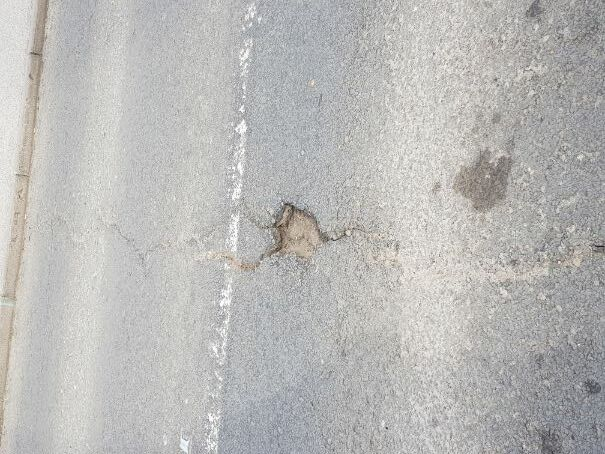pothole: (254, 199, 347, 264)
